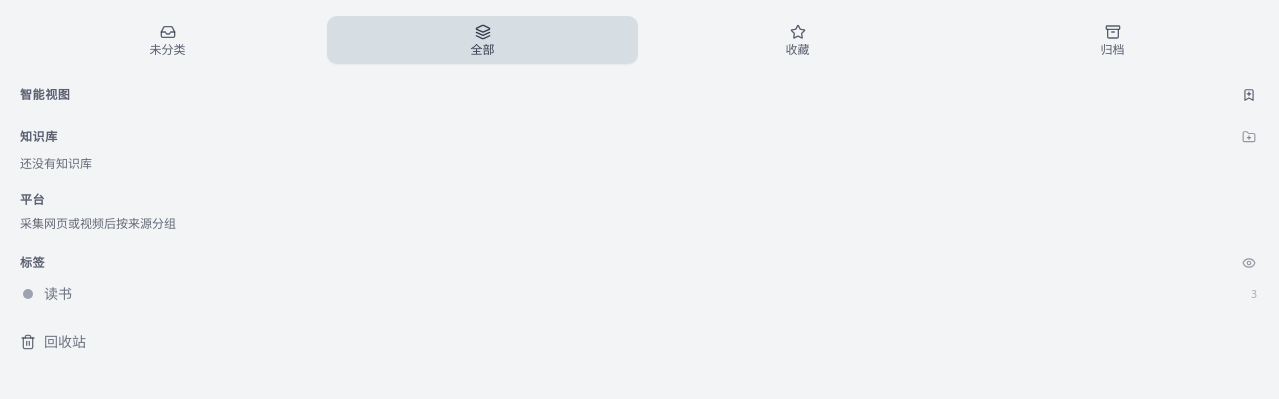
Scenario: 侧栏标签分区的可见性 › 开关能把藏起来的标签露出来，行菜单随之够得着
The width and height of the screenshot is (1279, 399).
Click the button named "显示 1 个未使用的标签" at point(1249, 263), box [1238,252,1260,274]
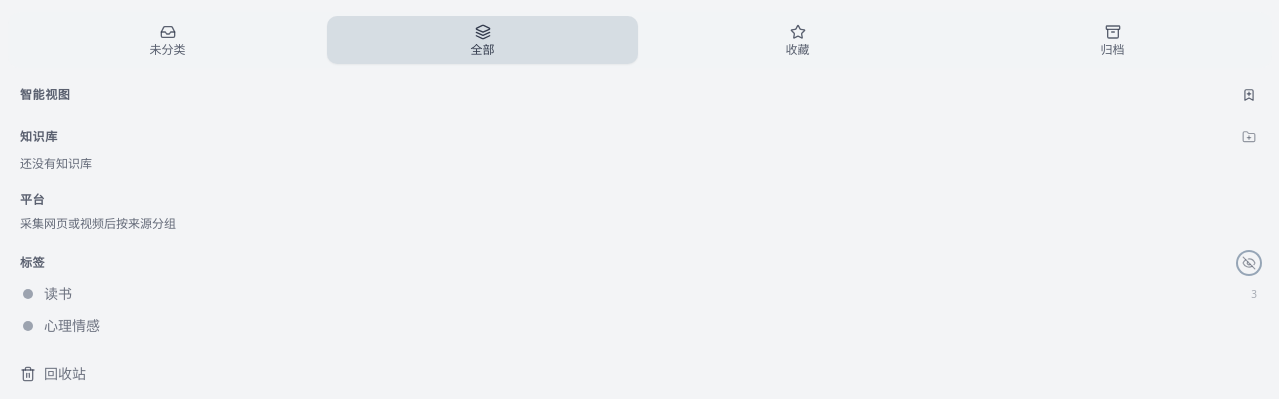
Check: the button "心理情感" is shown, box [8,310,1242,342]
